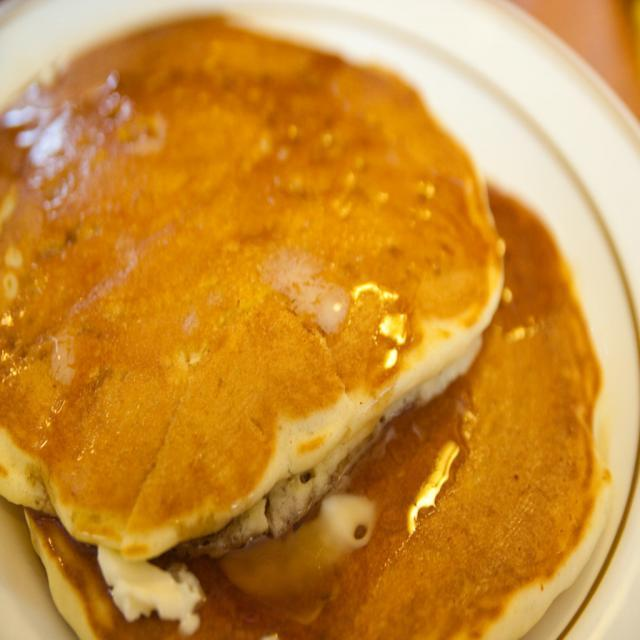Pancake: (0, 24, 519, 617)
